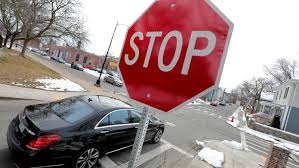stop sign: (118, 1, 234, 113)
